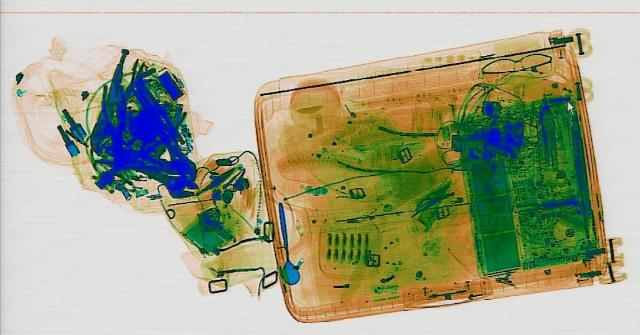Wrench: (89, 142, 209, 201)
